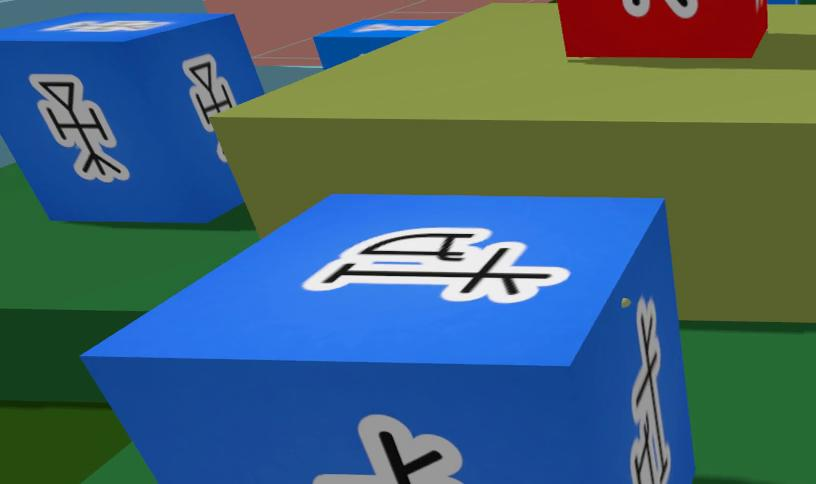KFS_FAKE: (559, 0, 767, 57)
KFS_REAL: (83, 194, 694, 484), (0, 12, 262, 221), (303, 227, 570, 303), (30, 75, 128, 182), (313, 415, 462, 484), (631, 297, 670, 484), (182, 55, 235, 131)
